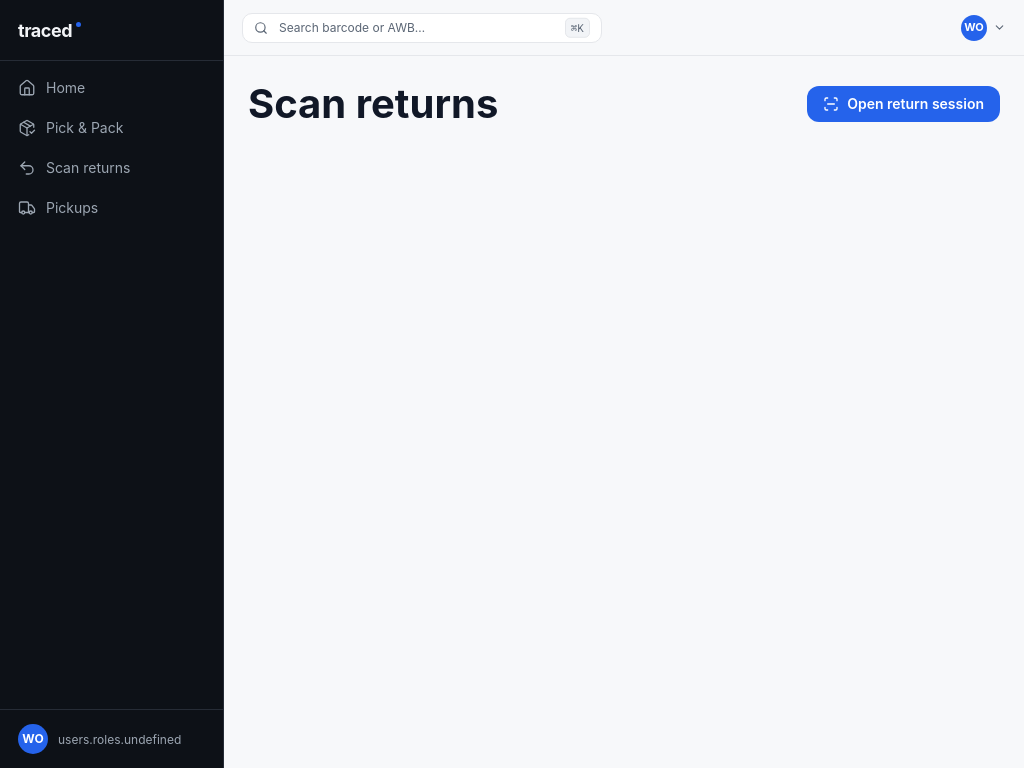
Test: Returns — courier return (CRP) AWB info line › cr5 forward-only session (no courierReturns field) renders no line
This screenshot has width=1024, height=768.
Click the button with test id "open-session-button". click: (904, 104)
box: x1=807 y1=86 x2=1000 y2=122
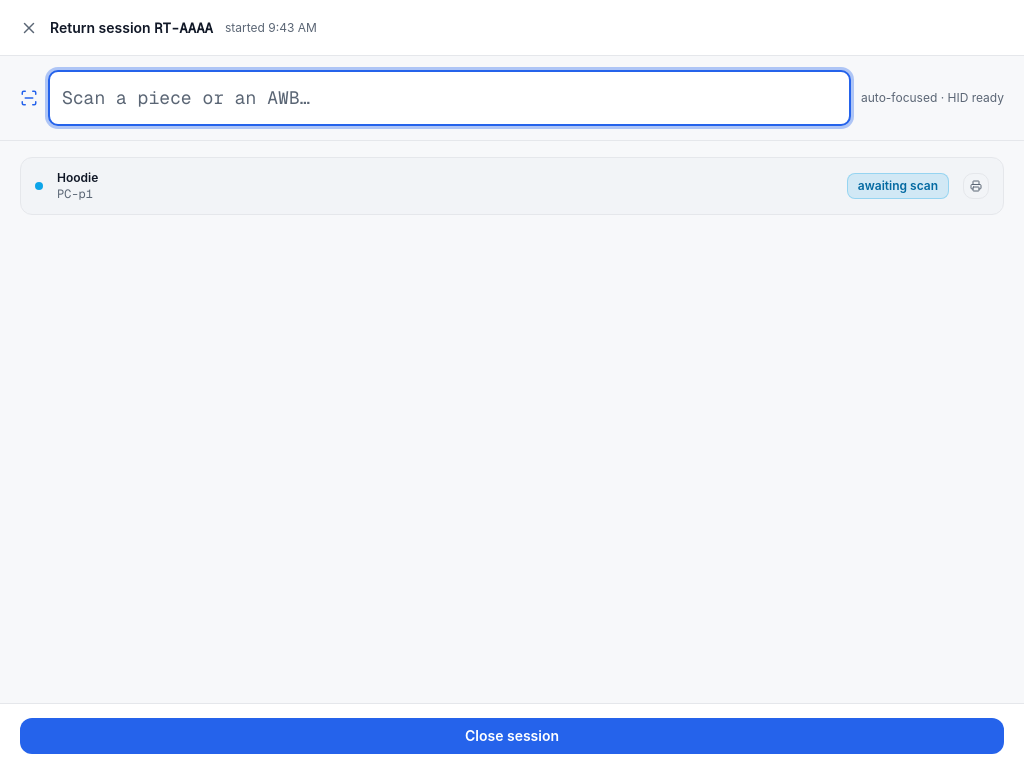
expect the element with test id "open-session-screen" is shown: met
expect the element with test id "expected-p1" is shown: met, box x1=20 y1=157 x2=1004 y2=215
